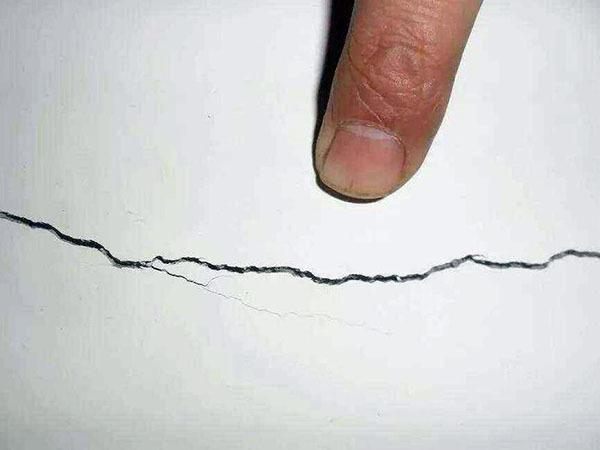Crack: (1, 212, 600, 286), (149, 264, 361, 327)
